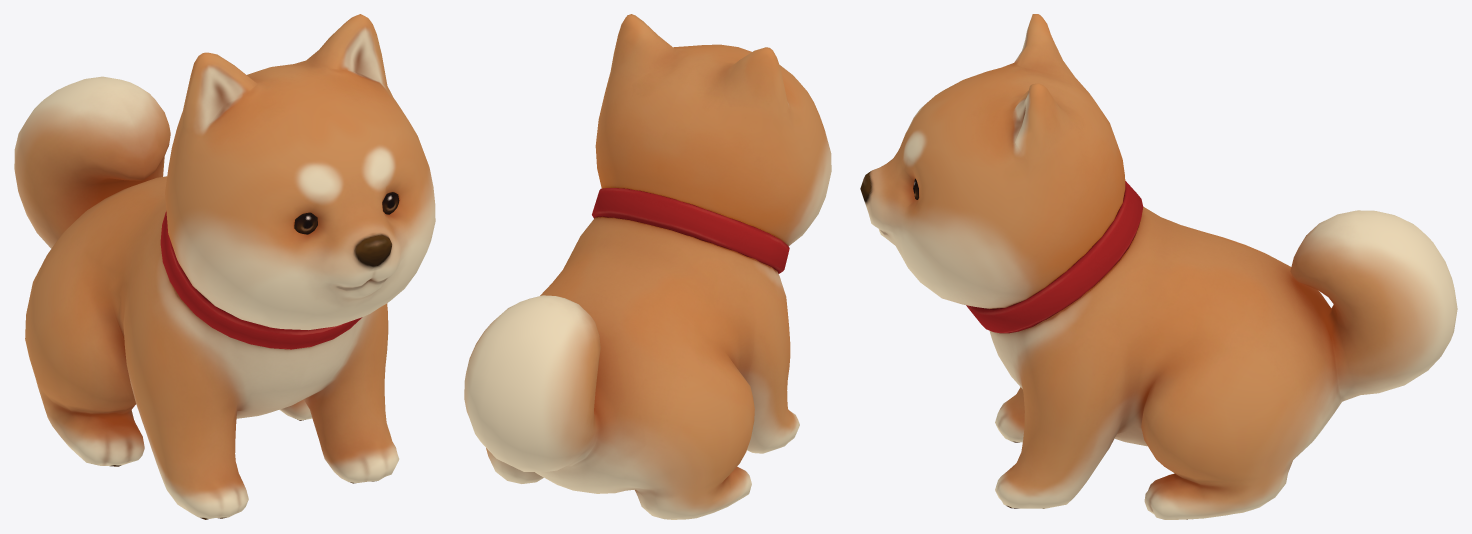
The model's file is shiba.glb.
3 renders of one model, left to right at view 1: azimuth 30°, elevation 25°; view 2: azimuth 150°, elevation 25°; view 3: azimuth 270°, elevation 25°, orthographic. The views are drawn at different scales.
Visible parts, largest first — view 1: Box002, Group18985, Object001_default_0; view 2: Box002, Group18985; view 3: Box002, Group18985.
Part boxes in pixels (x1,y1,x2,y2): Box002: (14, 14, 435, 519); Group18985: (160, 211, 362, 349); Object001_default_0: (294, 192, 399, 234); Box002: (464, 14, 831, 519); Group18985: (592, 188, 789, 273); Box002: (860, 14, 1457, 519); Group18985: (966, 181, 1143, 333).
Size of the model in its own units: 0.9209 by 1.38 by 1.77.
1 material, 1 textured.
